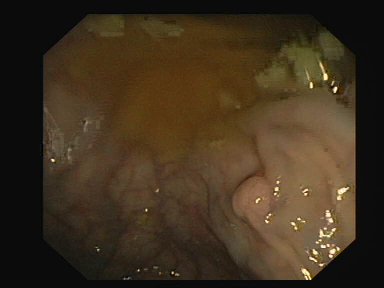polyp: (230, 173, 274, 224)
